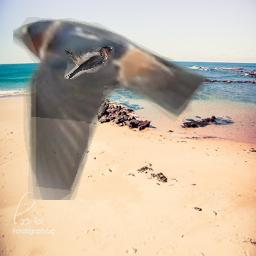Swallow: (13, 11, 212, 200), (64, 46, 115, 79)
